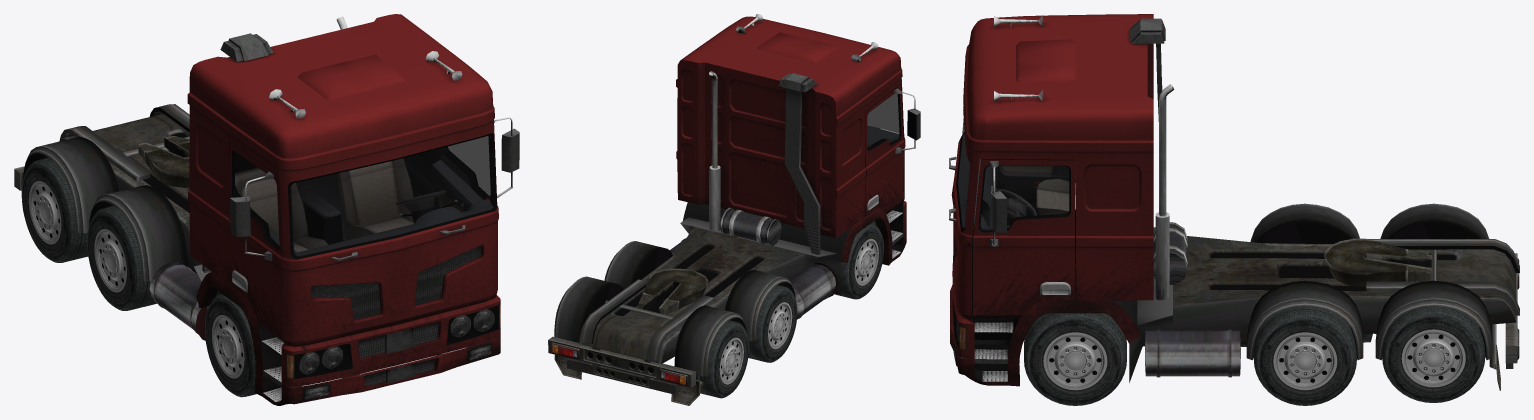
File: car-side.glb
The picture shows the model from 3 angles, left to right: view 1: azimuth 30°, elevation 25°; view 2: azimuth 150°, elevation 25°; view 3: azimuth 270°, elevation 25°; orthographic projection. The views are drawn at different scales.
Visible parts, largest first — view 1: Car10_Body_0000_0001, Car10_Body_0000_0000, Car10_Body_Part_0004_0001, Car10_Body_0000_0004, Car10_Body_0000_0002, Car10_Body_Part_0001_0001, Car10_Wheel_0004_0001, Car10_Wheel_0002_0001, Car10_Body_0000_0005, Car10_Body_Part_0002_0001, Car10_Wheel_0000_0001, Car10_Body_Part_0001_0004 (+10 smaller); view 2: Car10_Body_0000_0001, Car10_Body_0000_0000, Car10_Body_0000_0004, Car10_Body_Part_0003_0001, Car10_Body_Part_0001_0001, Car10_Wheel_0004_0001, Car10_Wheel_0002_0001, Car10_Wheel_0000_0001, Car10_Body_Part_0001_0004, Car10_Body_Part_0001_0000, Car10_Wheel_0004_0000, Car10_Wheel_0002_0000 (+4 smaller); view 3: Car10_Body_0000_0001, Car10_Body_0000_0000, Car10_Body_0000_0004, Car10_Body_Part_0000_0001, Car10_Wheel_0003_0001, Car10_Wheel_0001_0001, Car10_Wheel_0005_0001, Car10_Body_Part_0000_0004, Car10_Body_0000_0002, Car10_Wheel_0005_0000, Car10_Wheel_0001_0000, Car10_Wheel_0003_0000 (+5 smaller).
Boxes of the visible parts, x1,y1,x2,y2 form: Car10_Body_0000_0001: (187, 14, 500, 403); Car10_Body_0000_0000: (59, 16, 500, 402); Car10_Body_Part_0004_0001: (291, 135, 493, 256); Car10_Body_0000_0004: (22, 33, 493, 319); Car10_Body_0000_0002: (235, 154, 493, 256); Car10_Body_Part_0001_0001: (228, 142, 283, 341); Car10_Wheel_0004_0001: (21, 157, 88, 262); Car10_Wheel_0002_0001: (87, 205, 156, 310); Car10_Body_0000_0005: (294, 305, 499, 378); Car10_Body_Part_0002_0001: (273, 336, 500, 405); Car10_Wheel_0000_0001: (204, 294, 256, 397); Car10_Body_Part_0001_0004: (235, 152, 279, 247); Car10_Body_0000_0001: (676, 16, 906, 297); Car10_Body_0000_0000: (579, 14, 906, 363); Car10_Body_0000_0004: (554, 73, 903, 376); Car10_Body_Part_0003_0001: (548, 336, 703, 405); Car10_Body_Part_0001_0001: (865, 85, 904, 216); Car10_Wheel_0004_0001: (696, 320, 748, 398); Car10_Wheel_0002_0001: (748, 285, 797, 362); Car10_Wheel_0000_0001: (834, 223, 883, 299); Car10_Body_Part_0001_0004: (867, 94, 899, 149); Car10_Body_Part_0001_0000: (867, 88, 920, 211); Car10_Wheel_0004_0000: (719, 337, 743, 384); Car10_Wheel_0002_0000: (768, 302, 792, 349); Car10_Body_0000_0001: (951, 14, 1153, 386); Car10_Body_0000_0000: (949, 15, 1519, 382); Car10_Body_0000_0004: (963, 18, 1492, 360); Car10_Body_Part_0000_0001: (972, 159, 1075, 317); Car10_Wheel_0003_0001: (1253, 306, 1356, 405); Car10_Wheel_0001_0001: (1024, 313, 1126, 405); Car10_Wheel_0005_0001: (1382, 306, 1485, 402); Car10_Body_Part_0000_0004: (980, 165, 1069, 230); Car10_Body_0000_0002: (958, 134, 1075, 232); Car10_Wheel_0005_0000: (1401, 329, 1465, 387); Car10_Wheel_0001_0000: (1043, 332, 1107, 390); Car10_Wheel_0003_0000: (1273, 332, 1337, 390).
Bounding box in the file's own units: 0.0336 × 0.0352 × 0.0595.
8 materials, 7 textured.
